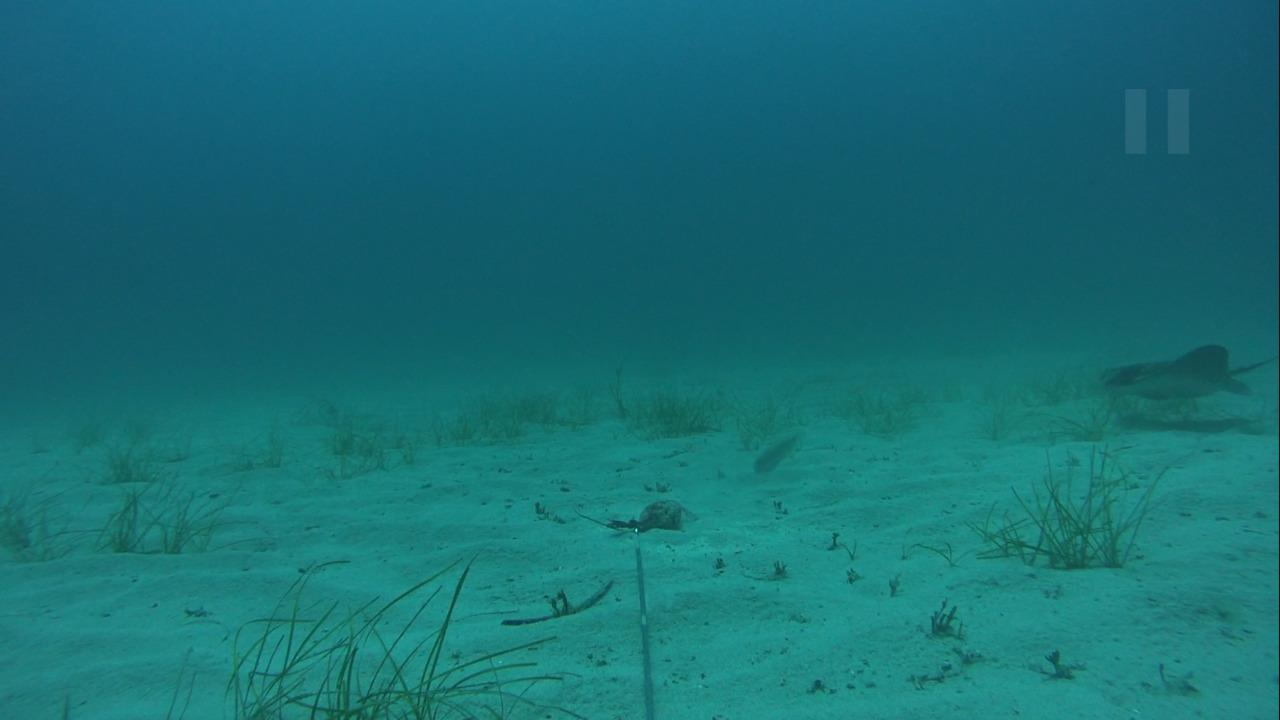myliobatis: (1084, 339, 1279, 413)
raor: (748, 426, 804, 480)
